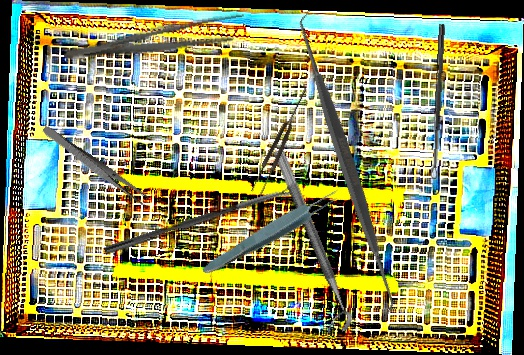Dressing Forceps: (61, 9, 249, 72), (39, 124, 151, 207)
Fixation Ring: (257, 148, 357, 337)
Spatula Surgical: (189, 8, 504, 322)
Surgical Spoon: (103, 185, 298, 256), (429, 23, 446, 180)
Tissue Forceps: (198, 183, 346, 282), (249, 85, 313, 197)
